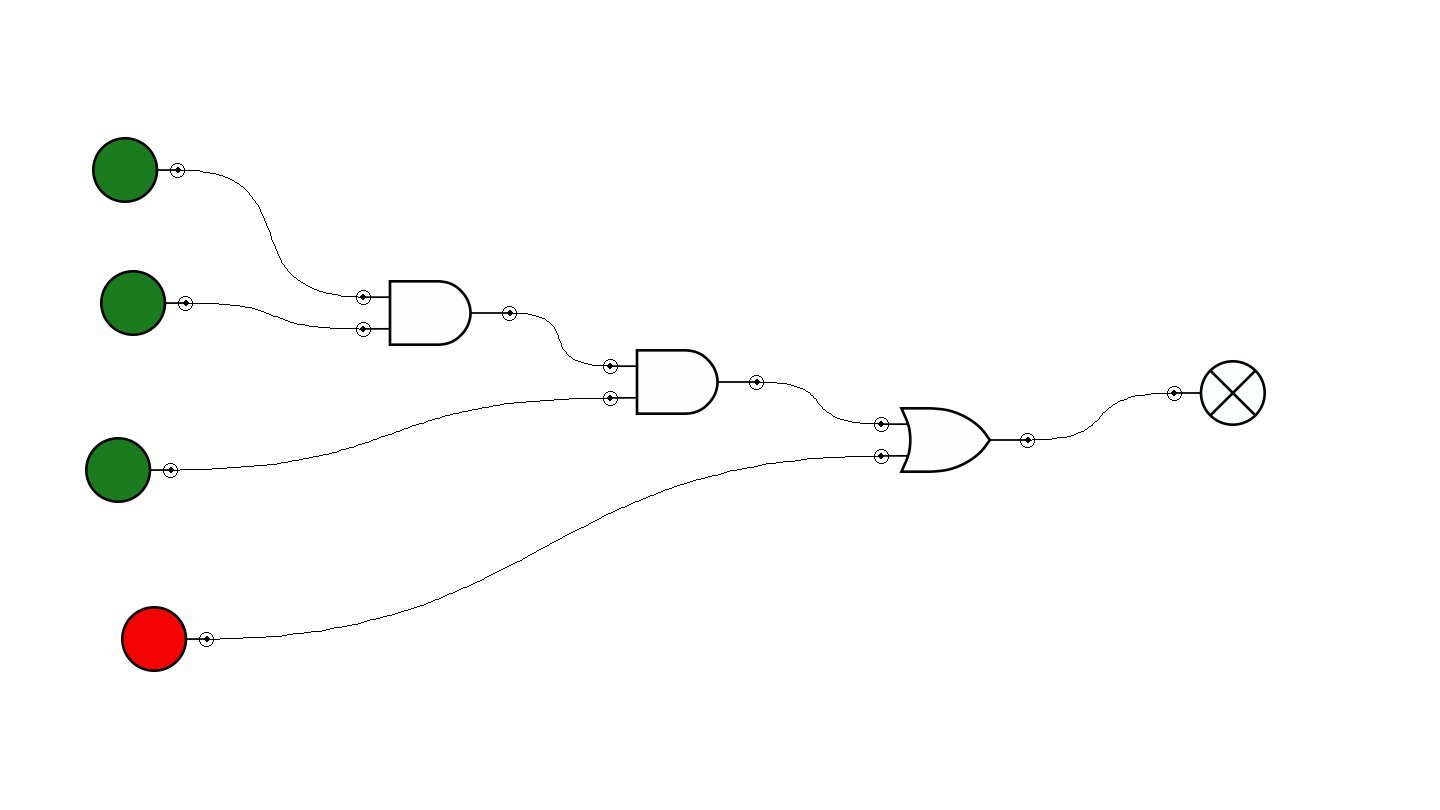and: (356, 280, 517, 346), (603, 349, 764, 415)
bulb: (1167, 360, 1266, 426)
or: (874, 407, 1035, 473)
switch_False: (121, 606, 214, 672)
switch_True: (92, 137, 185, 203), (100, 270, 193, 336), (85, 437, 178, 503)
